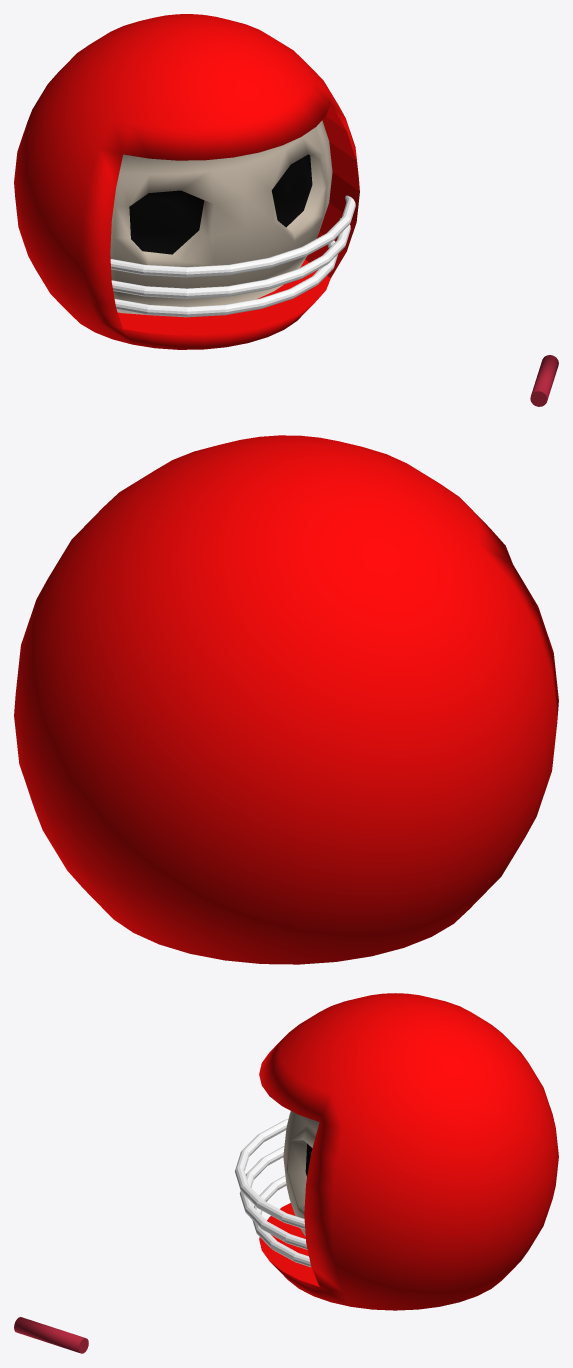
The model's file is SkullHelmet.fbx.
3 views of the same model, one above another, from view 1: azimuth 30°, elevation 25°; view 2: azimuth 150°, elevation 25°; view 3: azimuth 270°, elevation 25° (orthographic). The views are drawn at different scales.
Visible parts, largest first — view 1: Helmet, Torus, SOSBar; view 2: Helmet; view 3: Helmet, Torus, SOSBar.
Boxes of the visible parts, x1,y1,x2,y2 form: Helmet: (14, 14, 359, 349); Torus: (110, 195, 355, 317); SOSBar: (530, 355, 558, 406); Helmet: (14, 435, 558, 964); Helmet: (259, 993, 558, 1310); Torus: (235, 1119, 311, 1266); SOSBar: (14, 1317, 88, 1353).
Size of the model in its own units: 236 by 171 by 333.
